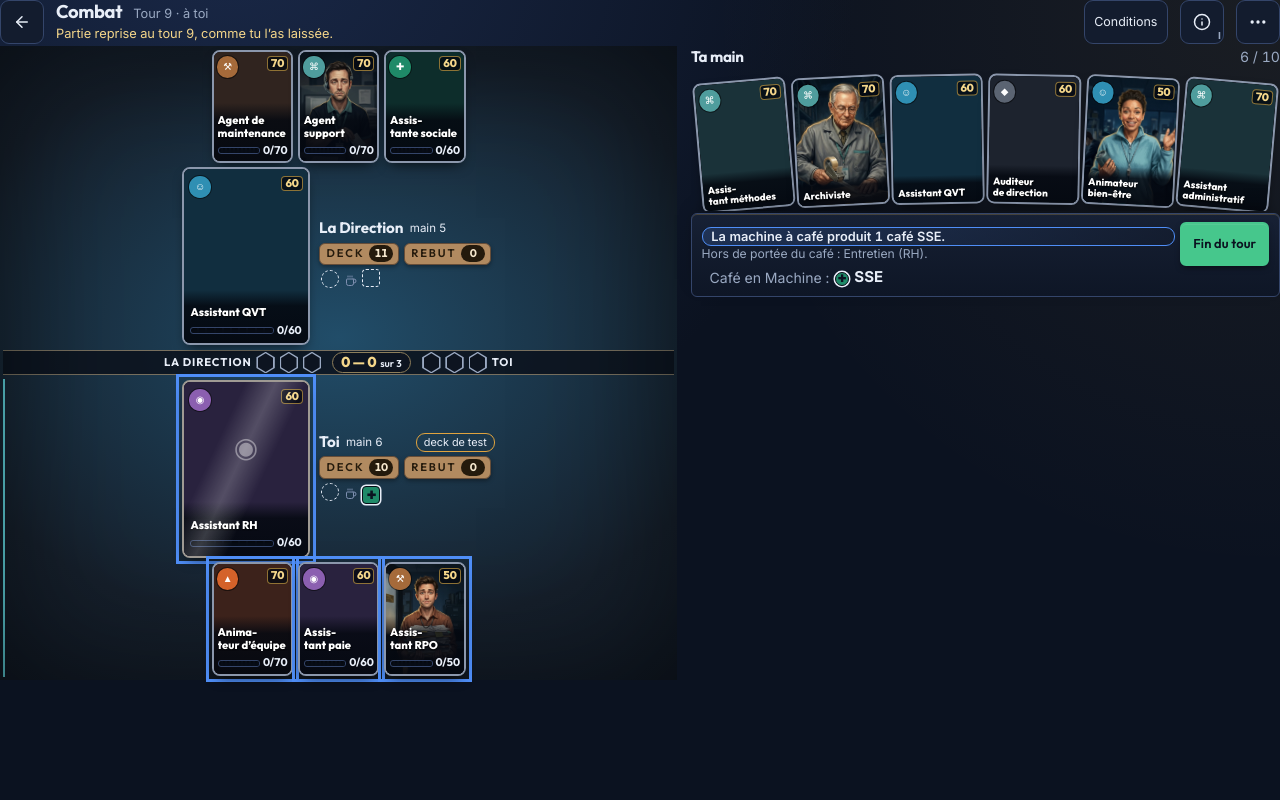
la sortie du combat (#427) › le forfait reste dans le menu, derrière sa confirmation
Click the button named "Menu du combat".
click(1258, 22)  # box [1236,0,1279,44]
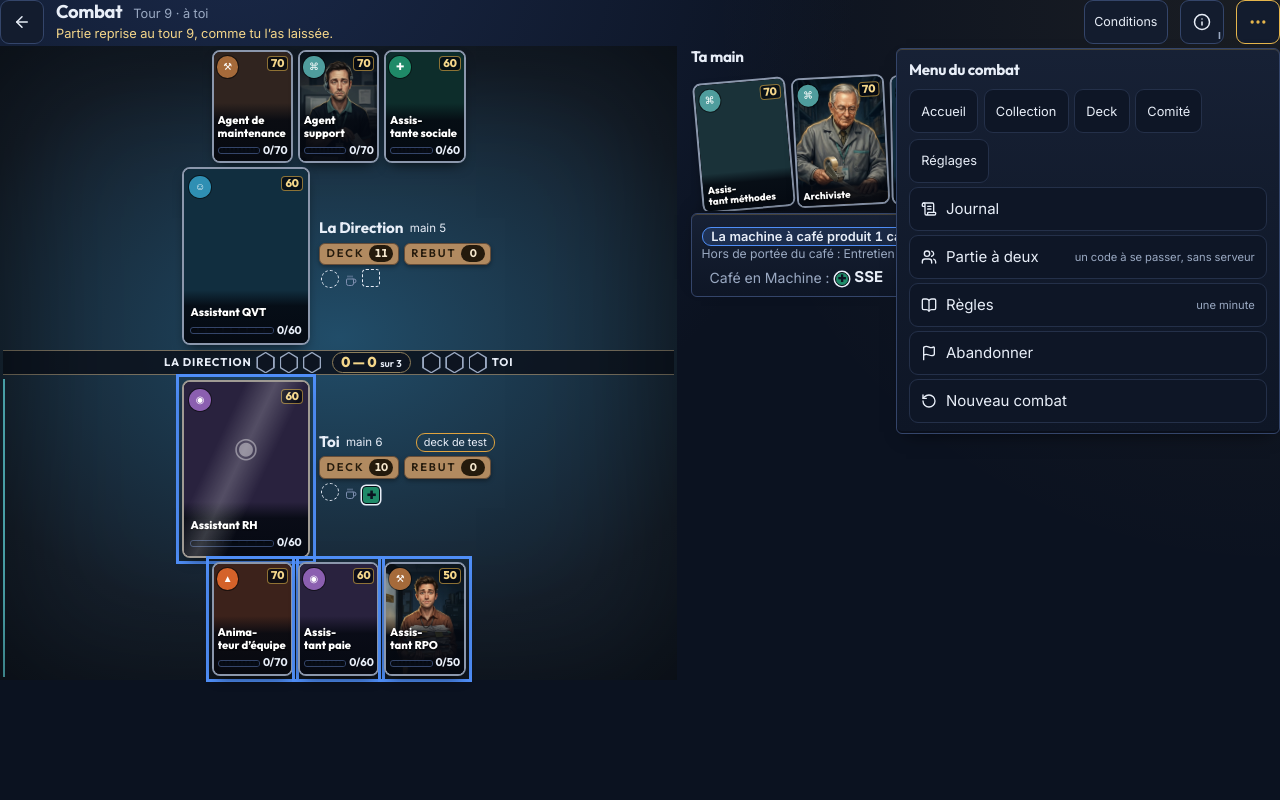
Click the button "Abandonner".
click(990, 352)  # box [909,331,1267,375]
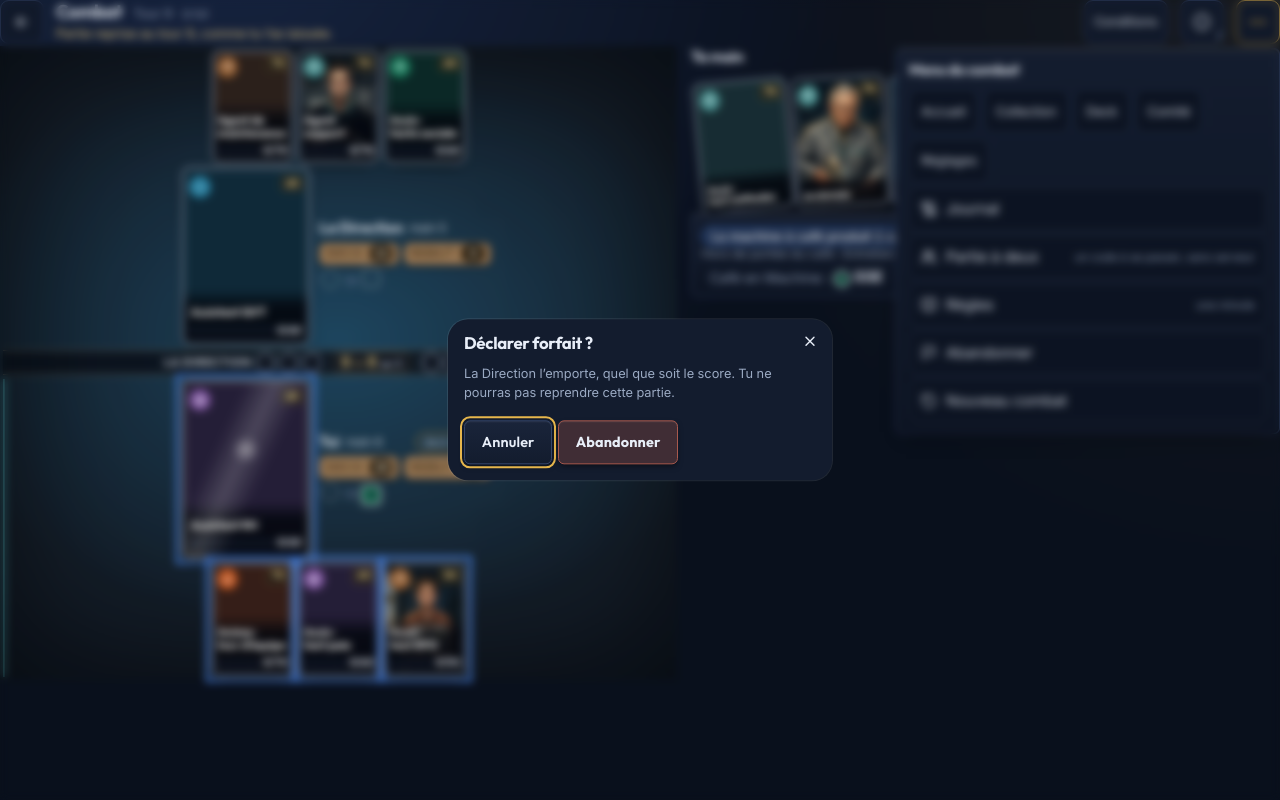
Now the heading "Déclarer forfait ?" is shown, box [464,332,593,353]
